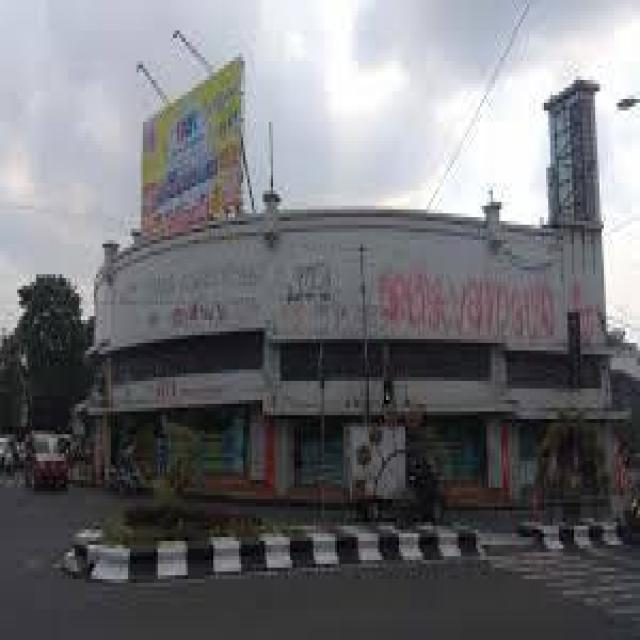nonspitting: (378, 266, 556, 338)
